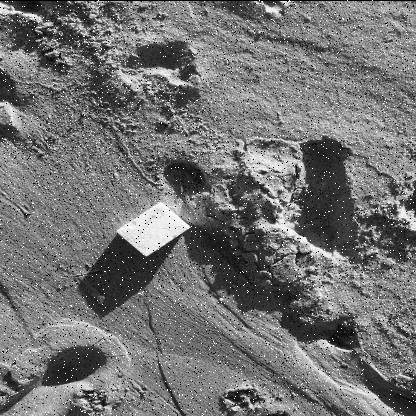foam: (116, 202, 191, 256)
